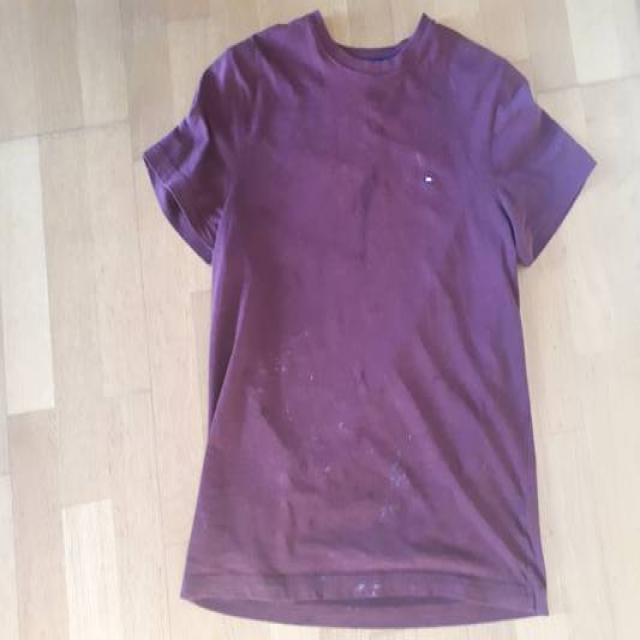shirt: (142, 12, 594, 627)
